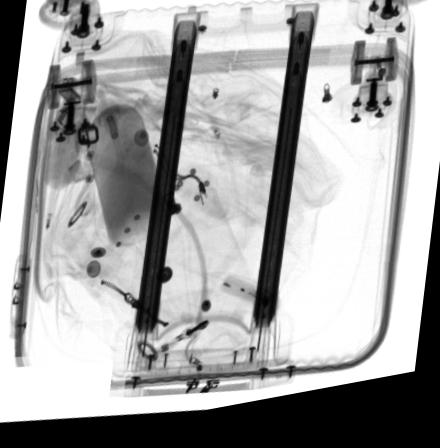Lighter: (149, 147, 183, 198)
